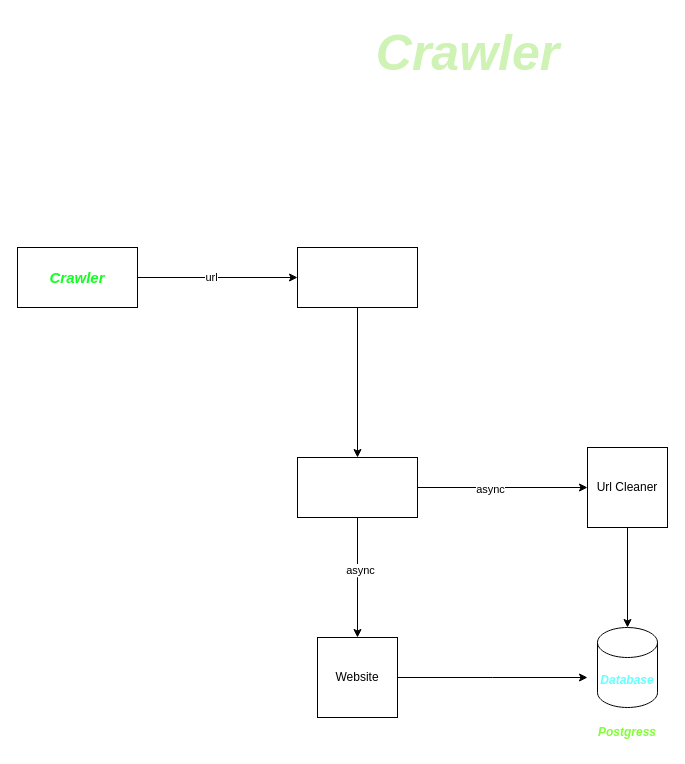
Image size: 685x764. Some labels were removed from this diagram. Here are the shapes that lost their labels. From the top down, the centre of each, then its label:
At point (357, 277): "Web crawler".
At point (357, 487): "Queue".
